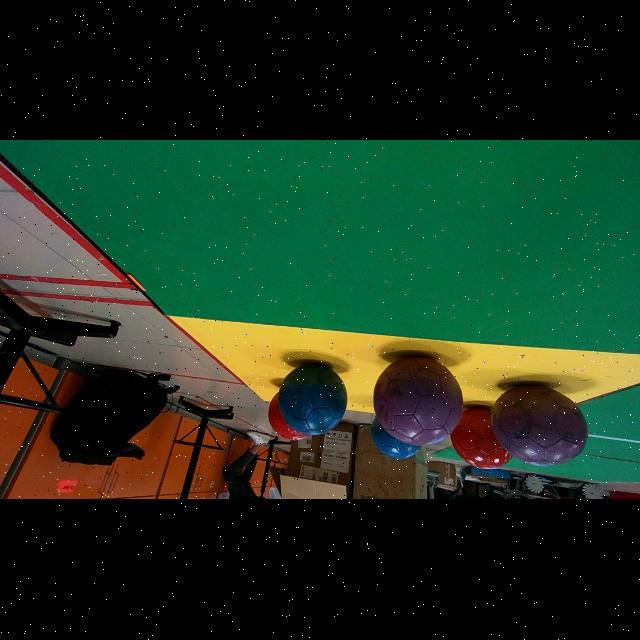B: (277, 365, 347, 436), (371, 419, 421, 461)
P: (373, 357, 463, 447), (491, 386, 587, 466)
R: (451, 408, 511, 469), (268, 395, 307, 441)
